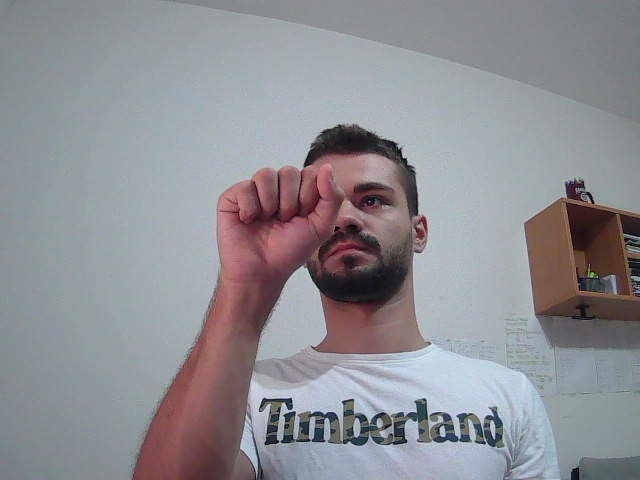a: (185, 149, 349, 379)
